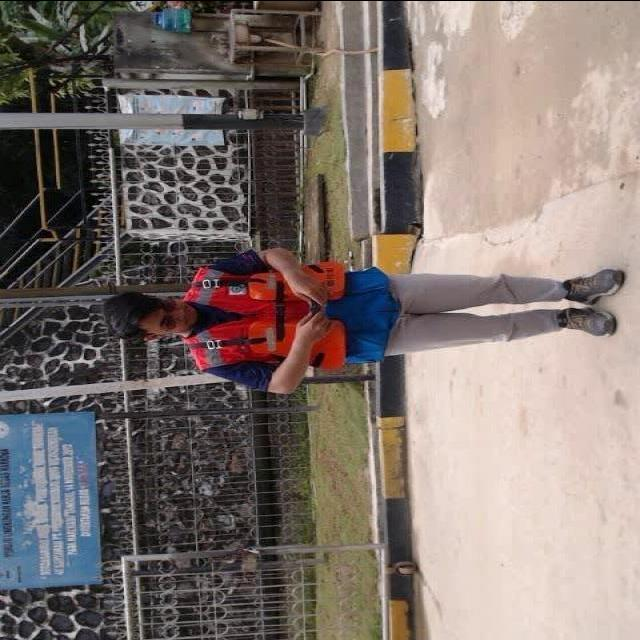boots: (559, 266, 626, 303), (555, 304, 617, 338)
vest: (182, 261, 386, 368)
